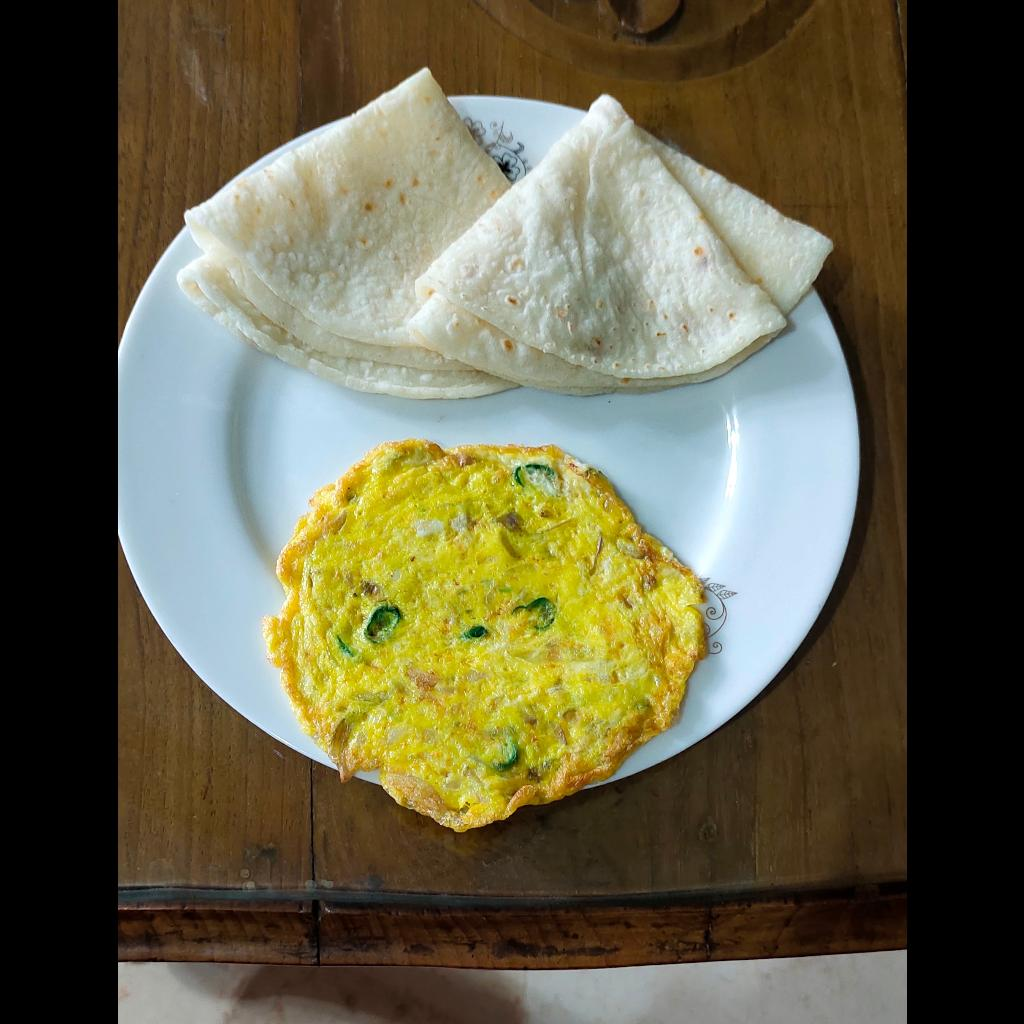egg: (252, 441, 708, 840)
ruti: (175, 60, 833, 403)
